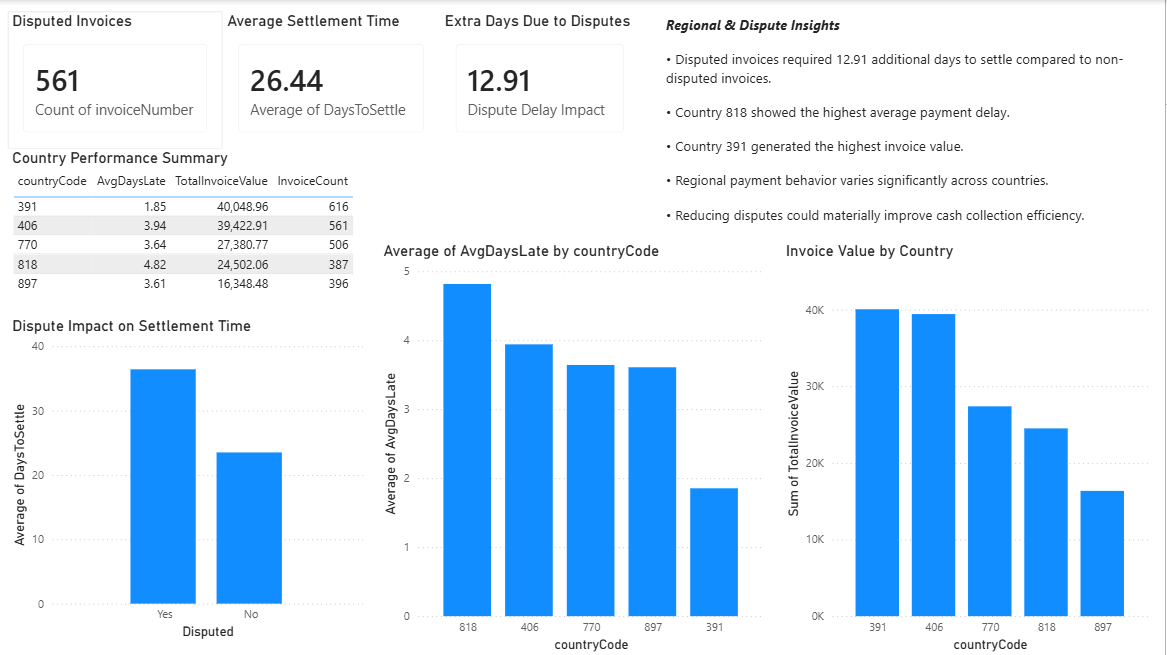

What the dashboard file says about the page in this screenshot:
{"tool":"powerbi","page":{"name":"Dispute & Regional Analysis","canvas":[1280,720],"ordinal":3},"visuals":[{"type":"cardVisual","title":"Disputed Invoices","fields":{"Data":["CountNonNull(WA_Fn-UseC_-Accounts-Receivable.invoiceNumber)"]},"box":[9.6,12.3,236,150.9],"z":0},{"type":"cardVisual","title":"Average Settlement Time","fields":{"Data":["Avg(WA_Fn-UseC_-Accounts-Receivable.DaysToSettle)"]},"box":[245.6,12.3,238.8,150.9],"z":1},{"type":"cardVisual","title":"Extra Days Due to Disputes","fields":{"Data":["WA_Fn-UseC_-Accounts-Receivable.Dispute Delay Impact"]},"box":[484.4,12.3,219.6,150.9],"z":2},{"type":"clusteredColumnChart","title":"Dispute Impact on Settlement Time","fields":{"Category":["WA_Fn-UseC_-Accounts-Receivable.Disputed"],"Y":["Avg(WA_Fn-UseC_-Accounts-Receivable.DaysToSettle)"]},"box":[9.6,347.2,395.2,359.5],"z":3},{"type":"columnChart","fields":{"Category":["country_analysis.countryCode"],"Y":["Avg(country_analysis.AvgDaysLate)"]},"box":[417.2,264.8,428.1,455.6],"z":4},{"type":"columnChart","title":"Invoice Value by Country","fields":{"Category":["country_analysis.countryCode"],"Y":["Sum(country_analysis.TotalInvoiceValue)"]},"box":[859,264.8,407.5,455.6],"z":5},{"type":"tableEx","title":"Country Performance Summary","fields":{"Values":["country_analysis.countryCode","country_analysis.AvgDaysLate","country_analysis.TotalInvoiceValue","country_analysis.InvoiceCount"]},"box":[9.6,163.3,395.2,167.4],"z":6},{"type":"textbox","box":[727.3,12.3,553,252.5],"z":7}]}

Visuals, with their boxes in screenshot pixels (x1, y1, x2, y2), scaled from the page's 1280x720 canvas onto the 1167x655 screenshot:
"Disputed Invoices" cardVisual: <bbox>9, 11, 224, 148</bbox>
"Average Settlement Time" cardVisual: <bbox>224, 11, 442, 148</bbox>
"Extra Days Due to Disputes" cardVisual: <bbox>442, 11, 642, 148</bbox>
"Dispute Impact on Settlement Time" clusteredColumnChart: <bbox>9, 316, 369, 643</bbox>
columnChart - country_analysis.countryCode x Avg(country_analysis.AvgDaysLate): <bbox>380, 241, 771, 654</bbox>
"Invoice Value by Country" columnChart: <bbox>783, 241, 1155, 654</bbox>
"Country Performance Summary" tableEx: <bbox>9, 149, 369, 301</bbox>
textbox: <bbox>663, 11, 1166, 241</bbox>
